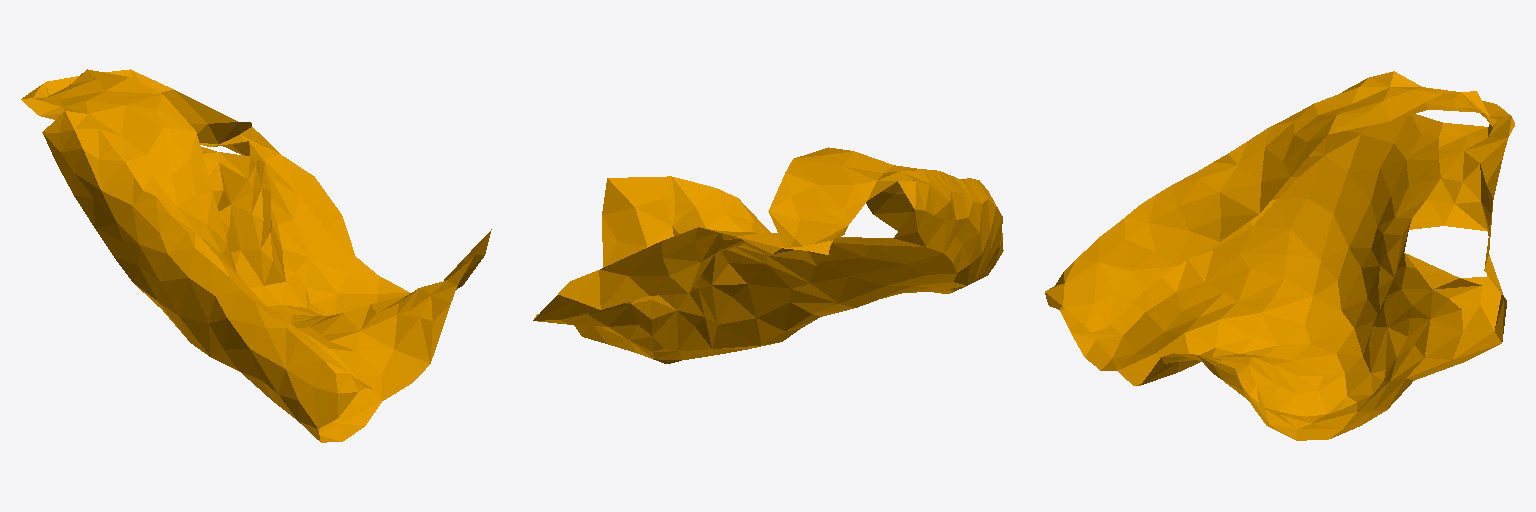
The robot description file, URDF, robot "init":
<?xml version='1.0' encoding='utf-8'?>
<robot name="init">
<link name="link_0"><inertial><mass value="1.0" /><origin rpy="0 0 0" xyz="0.000000 0.000000 0.000000" /><inertia ixx="1.0" ixy="0.0" ixz="0.0" iyy="1.0" iyz="0.0" izz="1.0" /></inertial><visual><origin rpy="0 0 0" xyz="0.000000 0.000000 0.000000" /><geometry><mesh filename="./clothHuman/cloth/1242.obj" /></geometry></visual><collision><origin rpy="0 0 0" xyz="0.000000 0.000000 0.000000" /><geometry><mesh filename="./clothHuman/cloth/1242.obj" /></geometry></collision></link></robot>

--- What the picture shows (computed from the rendered views, not written in the file) ---
Views: 3 orthographic renders of the robot side by side, from view 1: azimuth 30°, elevation 25°; view 2: azimuth 150°, elevation 25°; view 3: azimuth 270°, elevation 25°.
Model init with 1 links and 0 joints (none), rooted at link_0, posed every joint at zero.
Links seen in each view (by area): view 1: link_0; view 2: link_0; view 3: link_0.
Link boxes in pixels (left/top/right/bottom): link_0: left=21, top=69, right=491, bottom=442; link_0: left=533, top=147, right=1003, bottom=363; link_0: left=1045, top=71, right=1514, bottom=440.
Bounding box of the posed robot: 3.19 × 3.74 × 2.04 m (x, y, z).
Meshes: 1 distinct files referenced, 1 mesh visuals loaded (1 OBJ).